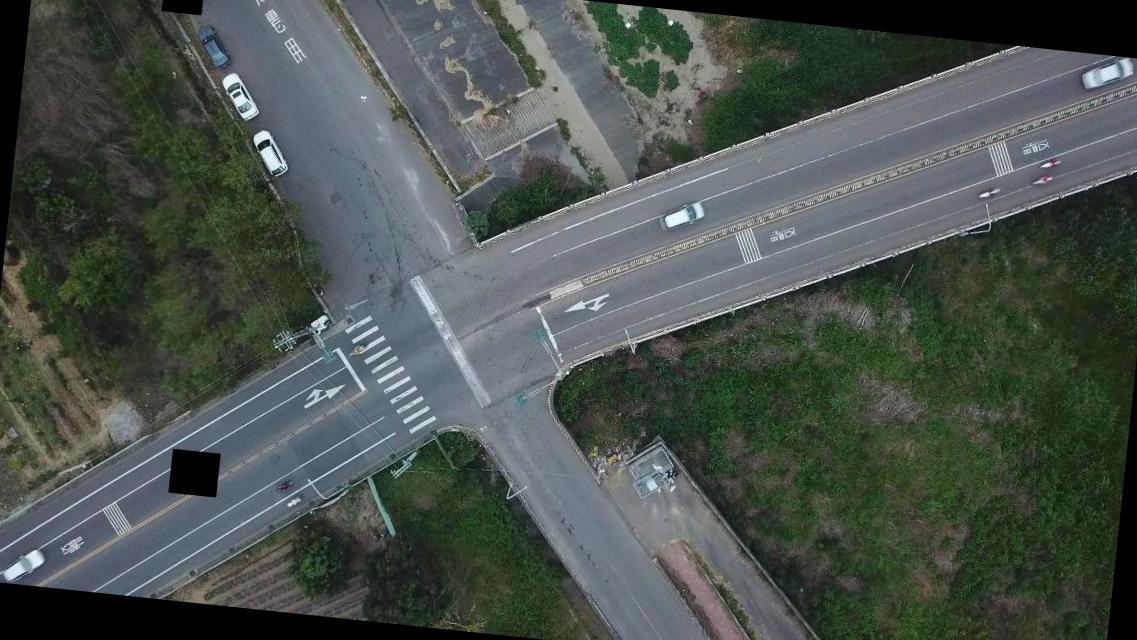vehicle: (1078, 52, 1136, 96), (248, 126, 292, 180), (219, 70, 262, 124), (0, 545, 50, 587), (193, 22, 234, 72), (658, 198, 706, 233)
